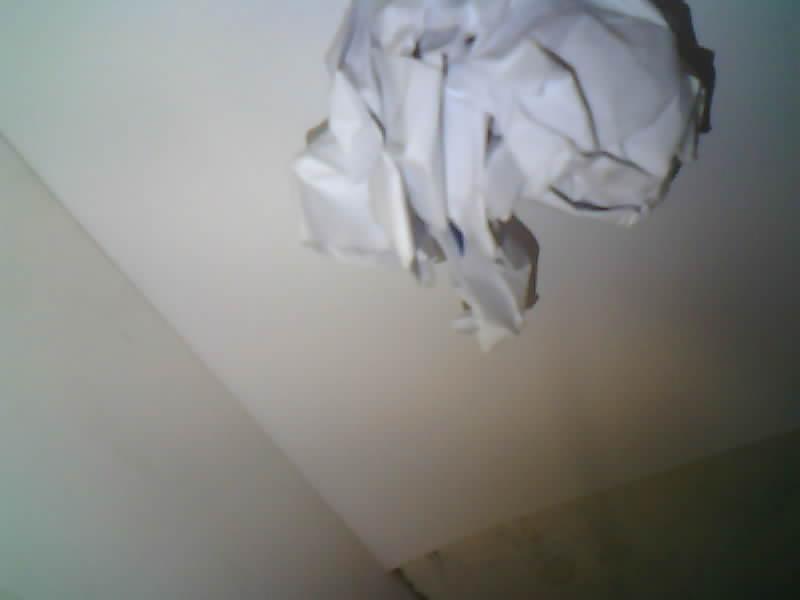biodegradable: (293, 0, 713, 346)
